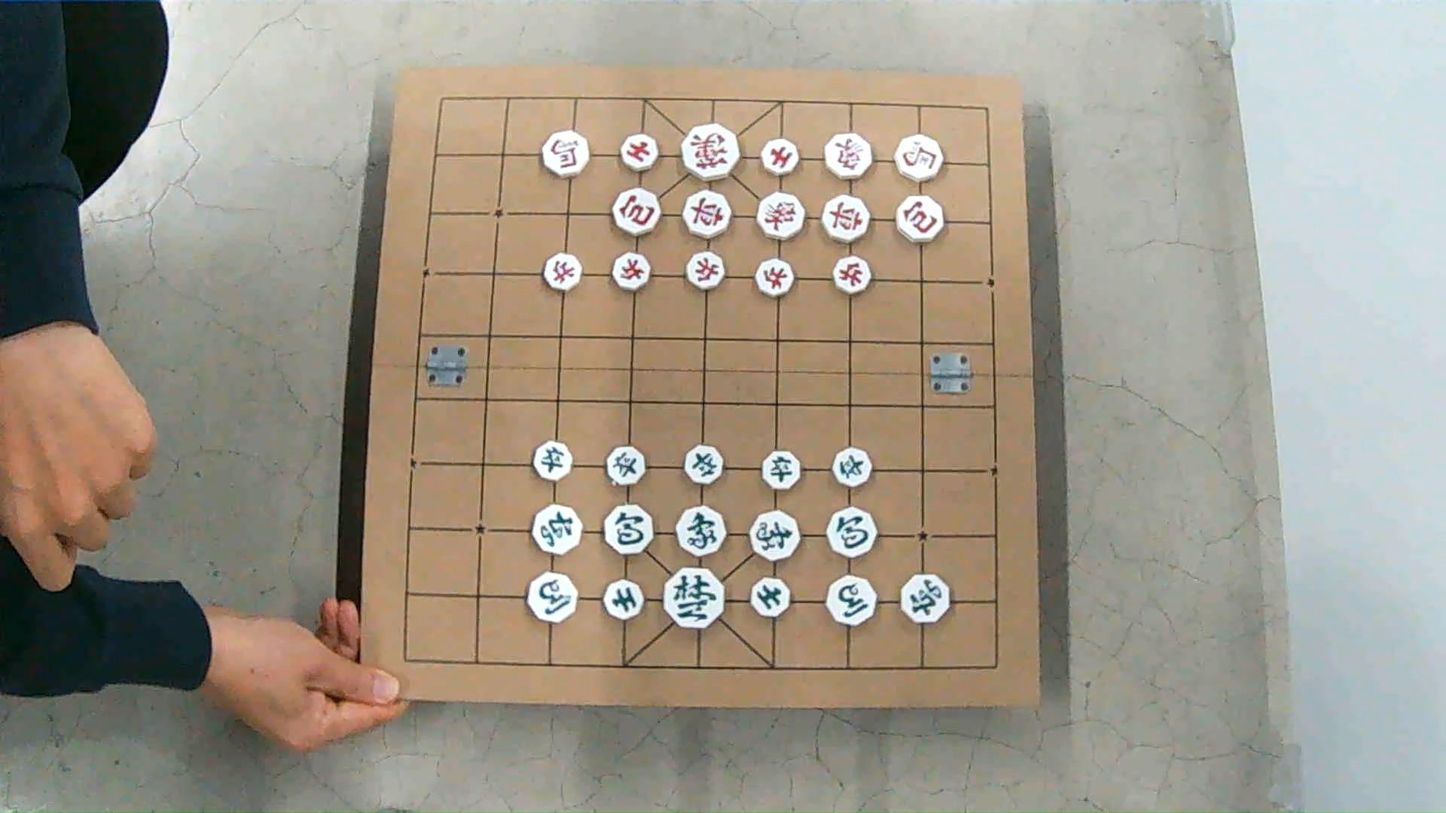cha_green: (532, 505, 581, 554), (900, 574, 949, 623)
cha_red: (682, 190, 730, 239), (822, 195, 869, 243)
jol_green: (606, 446, 645, 486), (833, 447, 872, 487), (533, 441, 571, 481), (762, 451, 801, 489), (684, 445, 722, 484)
jol_red: (832, 256, 871, 294), (686, 251, 724, 290), (756, 258, 794, 297), (612, 252, 649, 291), (543, 253, 580, 291)
ma_green: (827, 576, 876, 626), (526, 573, 575, 623)
ma_red: (541, 131, 589, 178), (896, 135, 943, 181)
po_green: (603, 504, 653, 555), (827, 507, 876, 557)
po_red: (611, 188, 660, 236), (896, 196, 944, 242)
sa_green: (604, 580, 643, 620), (751, 578, 789, 617)
sa_red: (761, 139, 799, 176), (621, 134, 658, 172)
sang_green: (750, 510, 799, 561), (676, 506, 725, 556)
sang_red: (757, 192, 804, 239), (825, 133, 872, 179)
wang_green: (664, 567, 723, 629)
wang_red: (682, 123, 739, 180)
